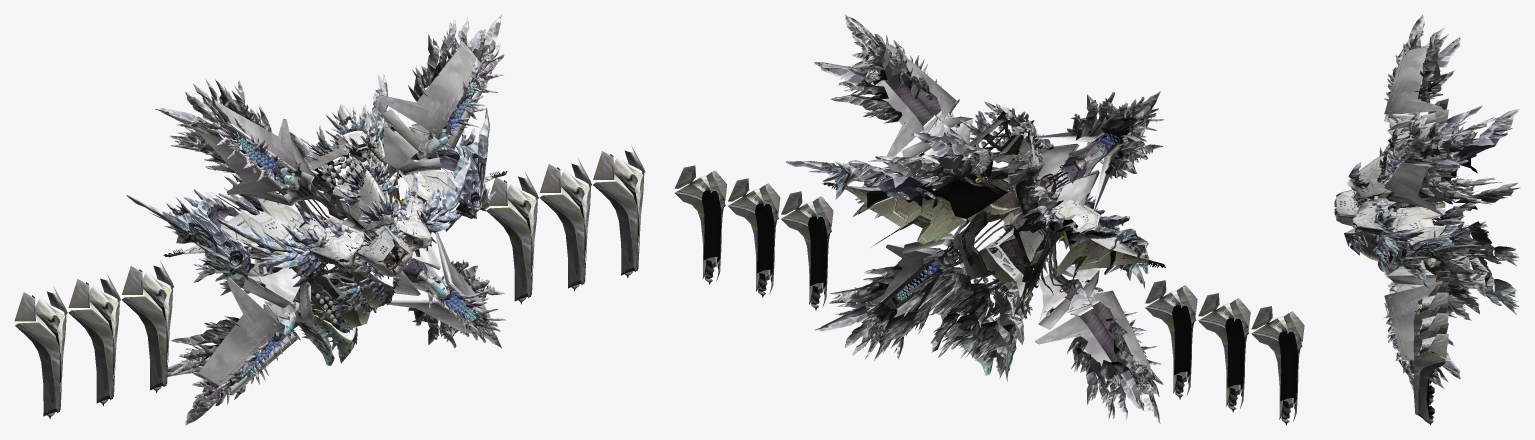
Rendered from xba001.glb.
3 renders of one model, left to right at view 1: azimuth 30°, elevation 25°; view 2: azimuth 150°, elevation 25°; view 3: azimuth 270°, elevation 25°, orthographic. The views are drawn at different scales.
Visible parts, largest first — view 1: xba001; view 2: xba001; view 3: xba001.
Part boxes in pixels (x1,y1,x2,y2): xba001: (14, 14, 645, 425); xba001: (674, 14, 1304, 425); xba001: (1334, 14, 1520, 425).
Bounding box in the file's own units: 93.33 × 47.42 × 30.25.
25 materials, 25 textured.
